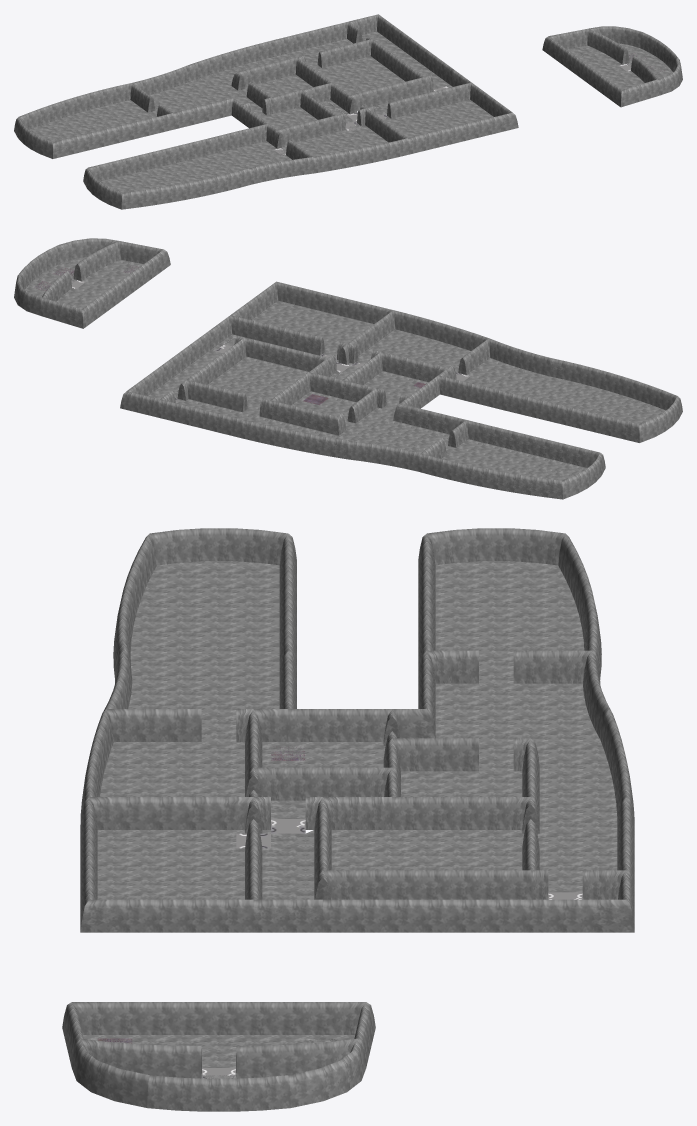
Rendered from level_0.gltf.
3 renders of one model, top to bottom at view 1: azimuth 30°, elevation 25°; view 2: azimuth 150°, elevation 25°; view 3: azimuth 270°, elevation 25°, orthographic. The views are drawn at different scales.
Visible parts, largest first — view 1: Mesh_14, Mesh_0, Mesh_4, Mesh_40, Mesh_48, Mesh_36, Mesh_20, Mesh_5, Mesh_10, Mesh_8, Mesh_18, Mesh_32 (+43 smaller); view 2: Mesh_0, Mesh_36, Mesh_48, Mesh_4, Mesh_10, Mesh_40, Mesh_14, Mesh_5, Mesh_8, Mesh_20, Mesh_32, Mesh_2 (+40 smaller); view 3: Mesh_0, Mesh_4, Mesh_26, Mesh_152, Mesh_5, Mesh_10, Mesh_8, Mesh_2, Mesh_112, Mesh_22, Mesh_58, Mesh_1 (+44 smaller).
Part boxes in pixels (x1=…): Mesh_14: x1=121, y1=168, x2=251, y2=209; Mesh_0: x1=102, y1=156, x2=233, y2=192; Mesh_4: x1=31, y1=102, x2=156, y2=142; Mesh_40: x1=53, y1=113, x2=175, y2=158; Mesh_48: x1=88, y1=138, x2=209, y2=181; Mesh_36: x1=19, y1=83, x2=131, y2=129; Mesh_20: x1=408, y1=112, x2=518, y2=154; Mesh_5: x1=152, y1=81, x2=263, y2=115; Mesh_10: x1=382, y1=102, x2=489, y2=137; Mesh_8: x1=313, y1=59, x2=401, y2=95; Mesh_18: x1=313, y1=138, x2=409, y2=173; Mesh_32: x1=188, y1=40, x2=275, y2=80; Mesh_0: x1=522, y1=378, x2=662, y2=424; Mesh_36: x1=418, y1=453, x2=562, y2=499; Mesh_48: x1=503, y1=392, x2=639, y2=442; Mesh_4: x1=446, y1=442, x2=584, y2=480; Mesh_10: x1=256, y1=303, x2=371, y2=357; Mesh_40: x1=466, y1=420, x2=599, y2=467; Mesh_14: x1=549, y1=358, x2=677, y2=410; Mesh_5: x1=340, y1=407, x2=451, y2=453; Mesh_8: x1=212, y1=359, x2=305, y2=413; Mesh_20: x1=276, y1=281, x2=392, y2=323; Mesh_32: x1=241, y1=420, x2=348, y2=459; Mesh_2: x1=356, y1=332, x2=468, y2=370; Mesh_0: x1=139, y1=564, x2=270, y2=680; Mesh_4: x1=444, y1=564, x2=575, y2=679; Mesh_26: x1=323, y1=899, x2=634, y2=932; Mesh_152: x1=72, y1=1002, x2=365, y2=1034; Mesh_5: x1=444, y1=680, x2=593, y2=767; Mesh_10: x1=106, y1=833, x2=236, y2=899; Mesh_8: x1=340, y1=833, x2=524, y2=870; Mesh_2: x1=108, y1=738, x2=243, y2=796; Mesh_112: x1=323, y1=870, x2=530, y2=899; Mesh_22: x1=80, y1=899, x2=253, y2=932; Mesh_58: x1=89, y1=797, x2=253, y2=829; Mesh_1: x1=137, y1=680, x2=270, y2=738.
Bounding box in the file's own units: 61.93 × 1.55 × 26.87.
Materials: 7 (7 with a texture image).
